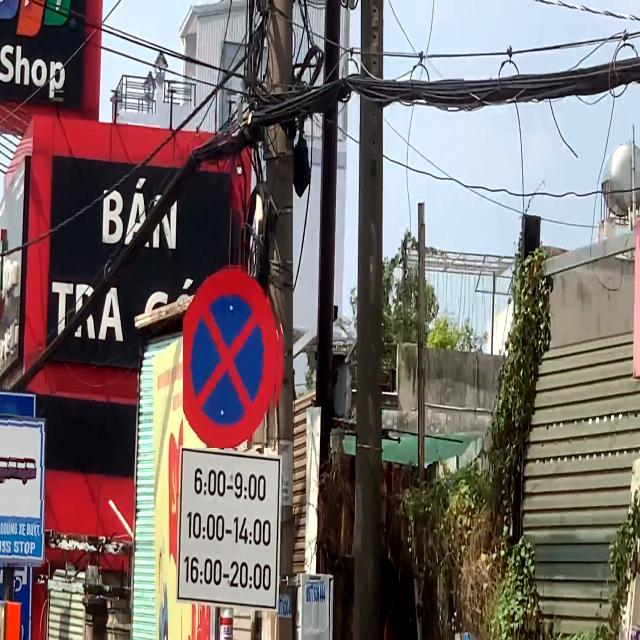P-130: (183, 264, 284, 448)
R-434: (0, 418, 45, 567)
